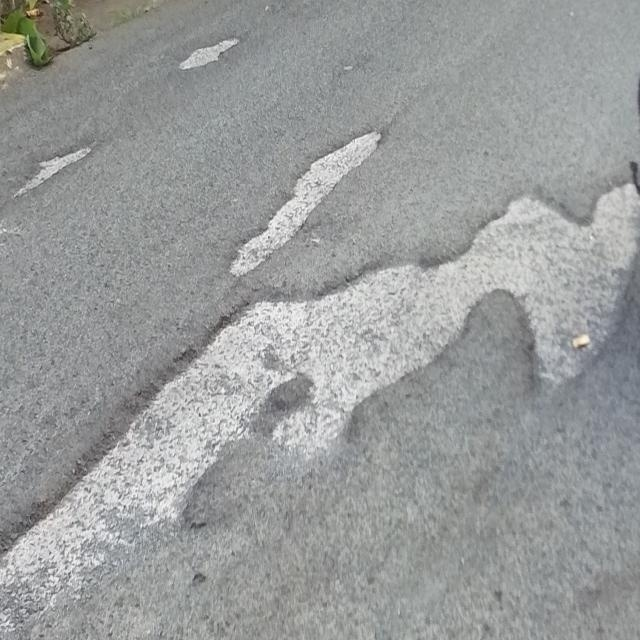pothole: (197, 110, 640, 537)
